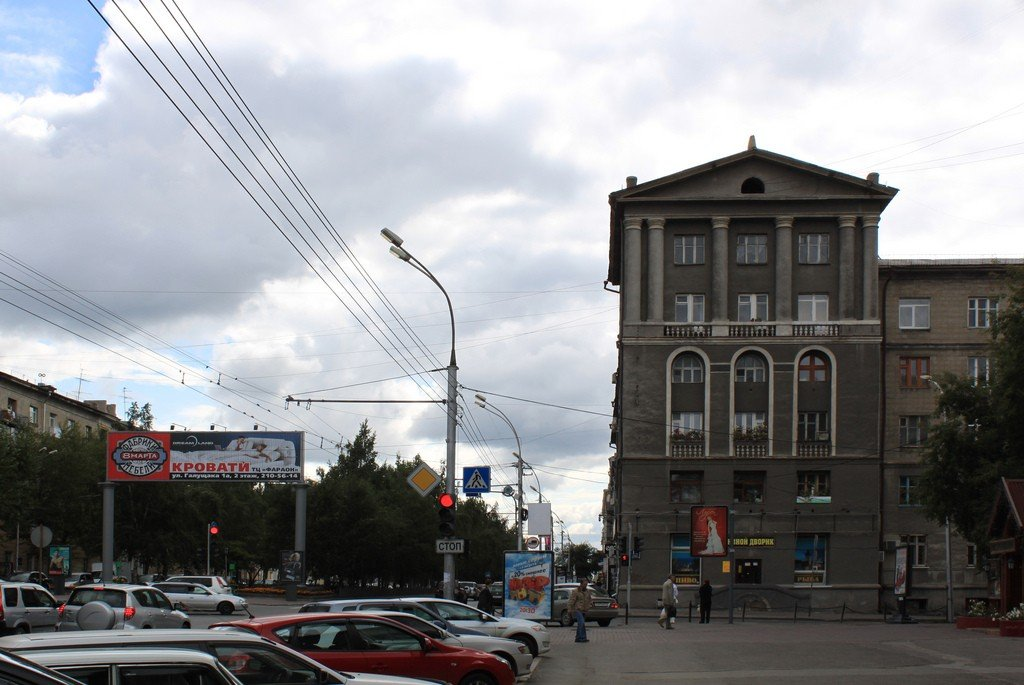sign: (404, 461, 442, 497), (462, 464, 492, 494), (526, 536, 540, 549)
